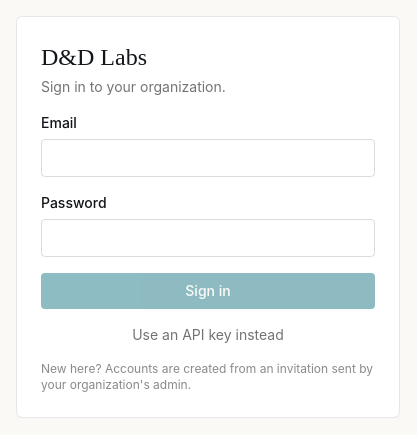
SignIn › defaults to email and password, with sign-in disabled until both are filled
Expected: the button "Sign in" is disabled, [41, 273, 375, 309]
In the field labelled "Email": (208, 158) [41, 139, 375, 177], type "ada@acme.example"
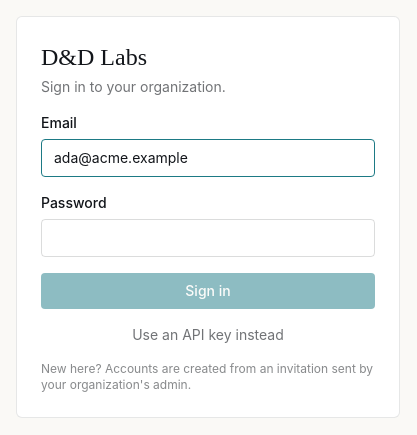
Expected: the button "Sign in" is disabled, [41, 273, 375, 309]
In the password field labelled "Password": (208, 238) [41, 219, 375, 257], type "x"
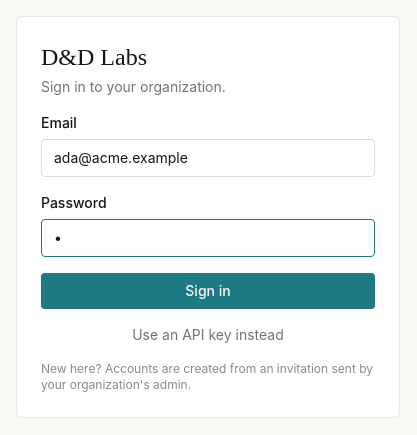
Expected: the text "Accounts are created from an invitation" is shown, [41, 361, 373, 392]
Expected: the button "Sign in" is enabled, [41, 273, 375, 309]
